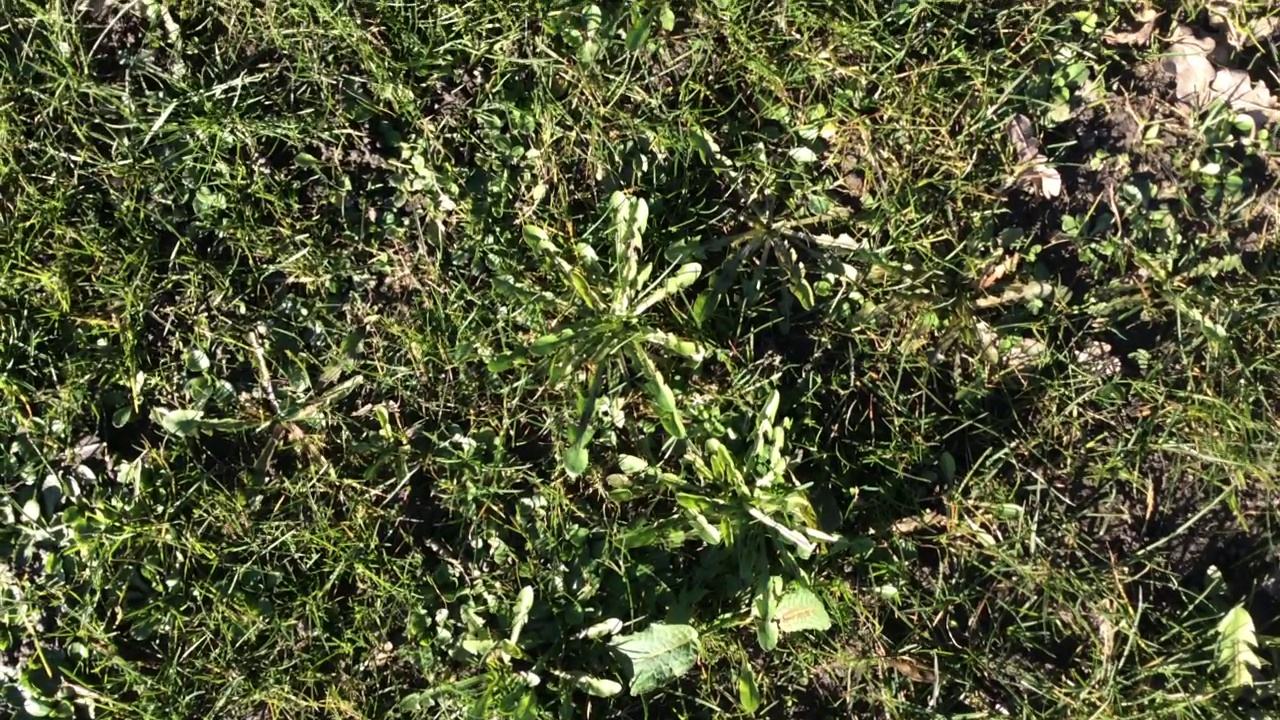rumex: (586, 623, 702, 694), (761, 588, 831, 636)
